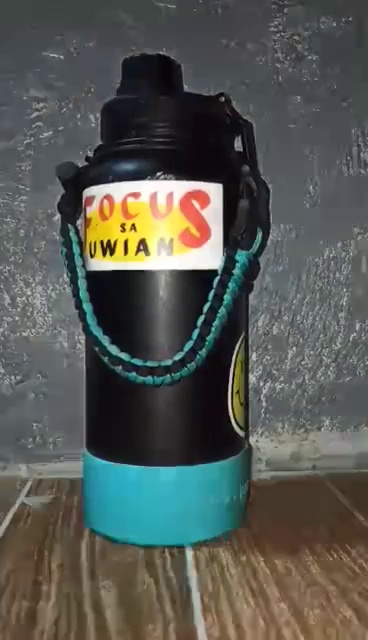tumbler: (54, 46, 270, 554)
